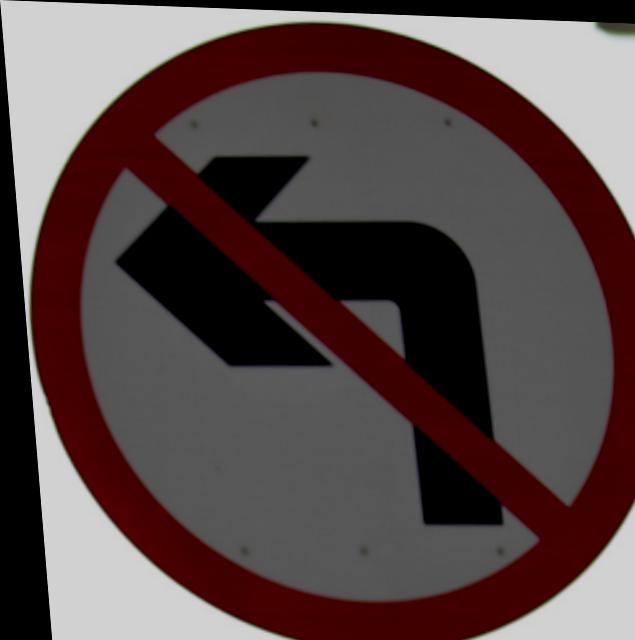not_turn_left: (16, 5, 635, 640)
